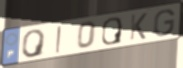0: (76, 20, 97, 50)
G: (152, 8, 176, 38)
I: (55, 24, 63, 55)
K: (128, 12, 149, 42)
Q: (21, 27, 48, 59), (100, 16, 123, 46)
